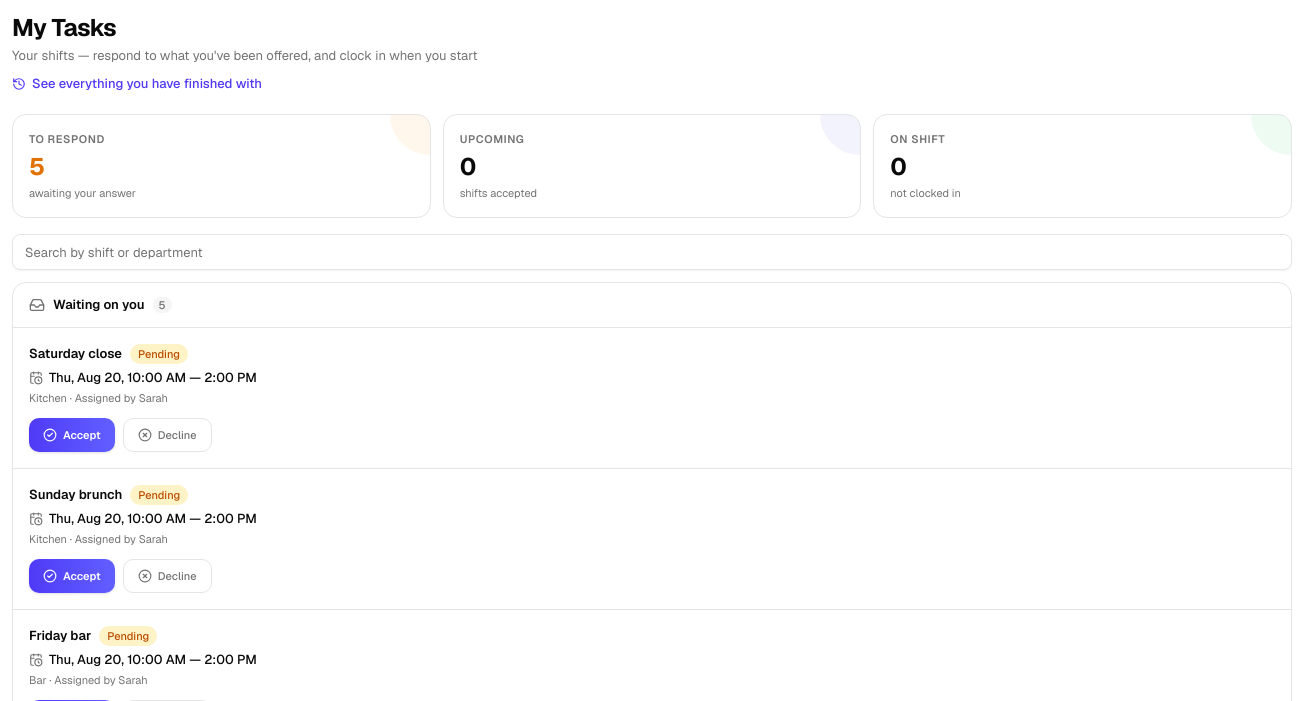
Scenario: searching what is on the plate › says nothing matched rather than nothing to do
Expected: the heading "Saturday close" is shown, top-left (29, 344), bottom-right (122, 364)
Type "zzzz" into the field named "Search your shifts". click: (652, 252)
box: top-left (12, 234), bottom-right (1292, 270)
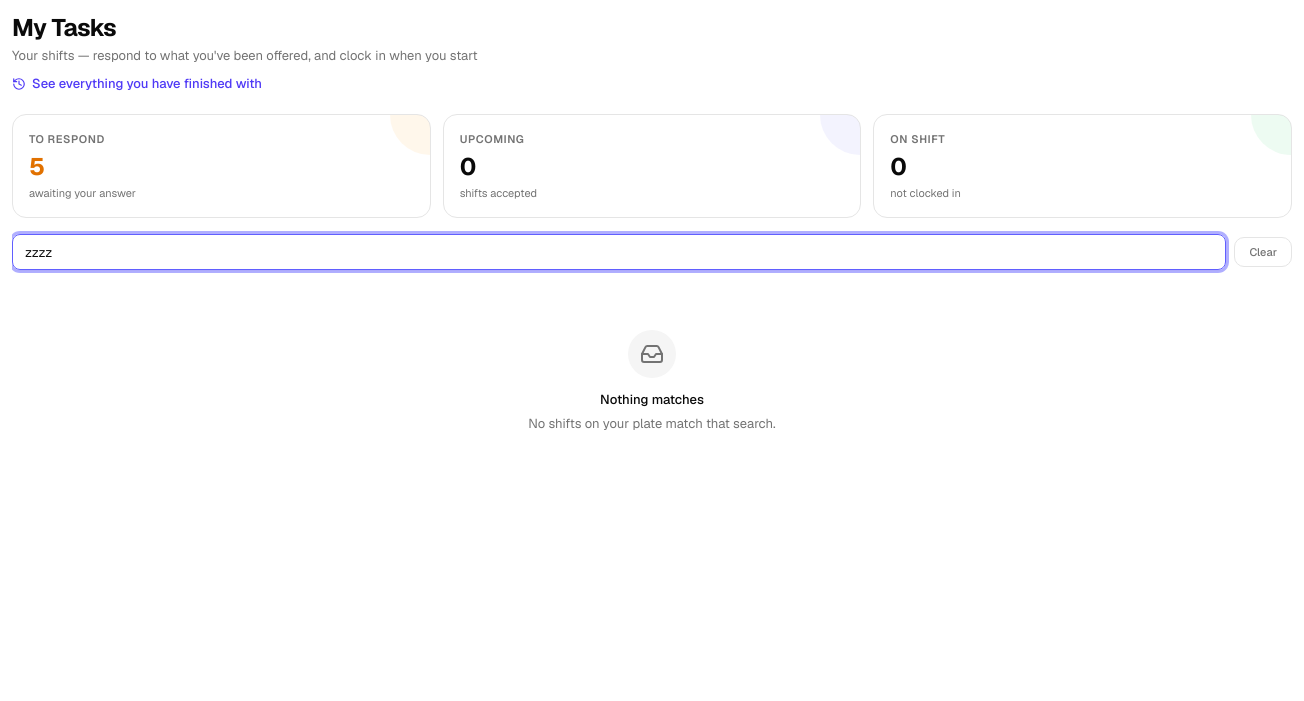
Now the heading "Nothing matches" is shown, box top-left (600, 391), bottom-right (704, 408)
